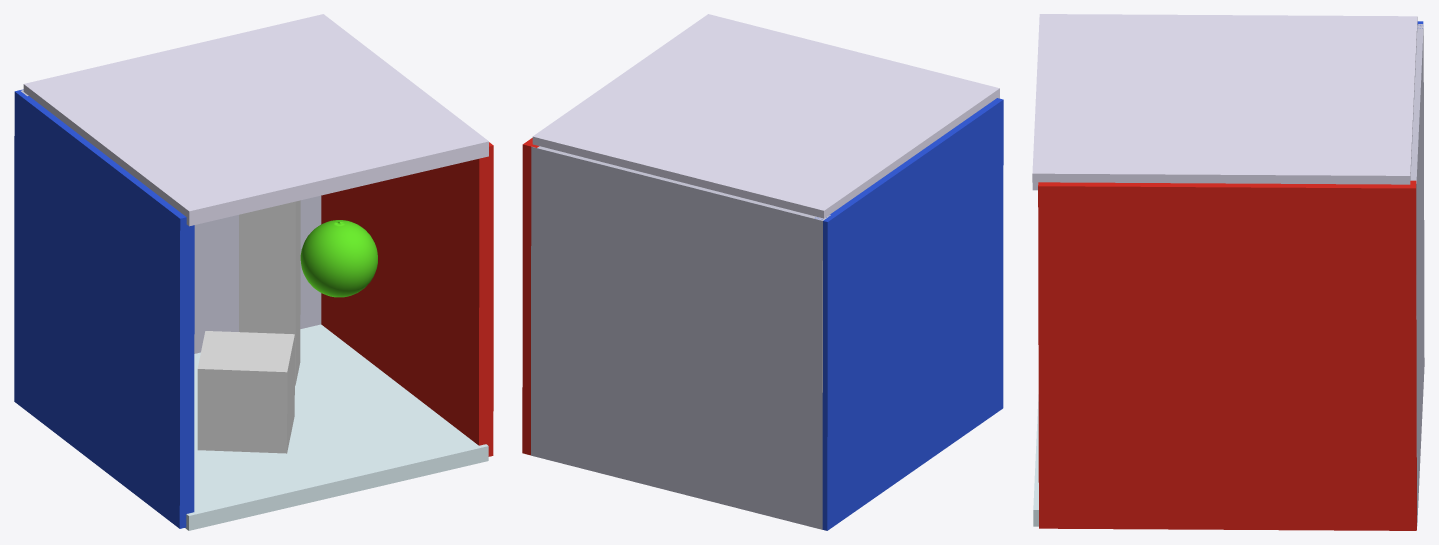
The picture shows the model from 3 angles, left to right: view 1: azimuth 30°, elevation 25°; view 2: azimuth 150°, elevation 25°; view 3: azimuth 270°, elevation 25°; orthographic projection. The views are drawn at different scales.
Parts seen in each view (by area): view 1: scene.004, scene.005, scene.001, scene.006, scene.007, scene.008, scene.003, scene; view 2: scene.003, scene.004, scene.005, scene.001; view 3: scene.001, scene.005, scene.003, scene.006.
Part boxes in pixels (x1,y1,x2,y2): scene.004: (14, 89, 194, 528); scene.005: (23, 14, 488, 226); scene.001: (321, 142, 493, 456); scene.006: (185, 324, 488, 530); scene.007: (197, 331, 294, 453); scene.008: (239, 200, 300, 385); scene.003: (20, 89, 321, 353); scene: (300, 220, 377, 297); scene.003: (531, 146, 830, 529); scene.004: (815, 98, 1003, 530); scene.005: (532, 14, 999, 218); scene.001: (522, 138, 539, 455); scene.001: (1038, 180, 1416, 530); scene.005: (1032, 14, 1417, 190); scene.003: (1410, 24, 1424, 525); scene.006: (1033, 394, 1038, 526).
Size of the model in its own units: 6.05 by 5.86 by 5.89.
